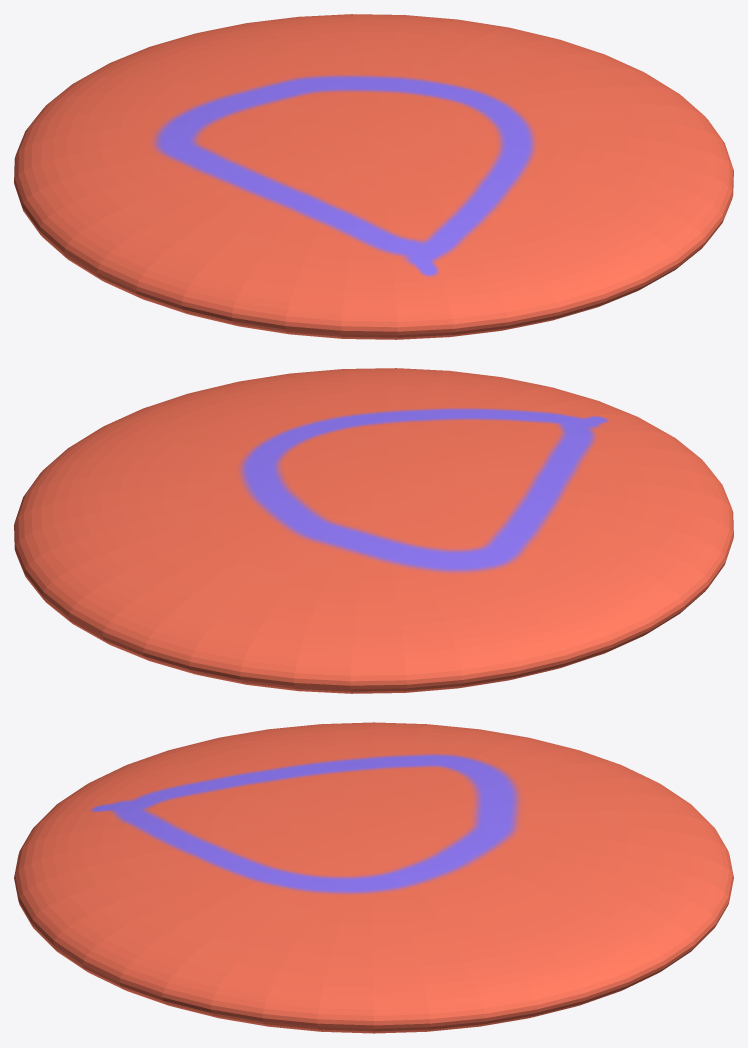
The model's file is BotaoResposta.fbx.
3 views of the same model, one above another, from view 1: azimuth 30°, elevation 25°; view 2: azimuth 150°, elevation 25°; view 3: azimuth 270°, elevation 25° (orthographic). The views are drawn at different scales.
Visible parts, largest first — view 1: Sphere; view 2: Sphere; view 3: Sphere.
Boxes of the visible parts, x1,y1,x2,y2 form: Sphere: (14,14,733,339); Sphere: (14,368,733,693); Sphere: (14,722,733,1033).
Size of the model in its own units: 846 by 132 by 873.
